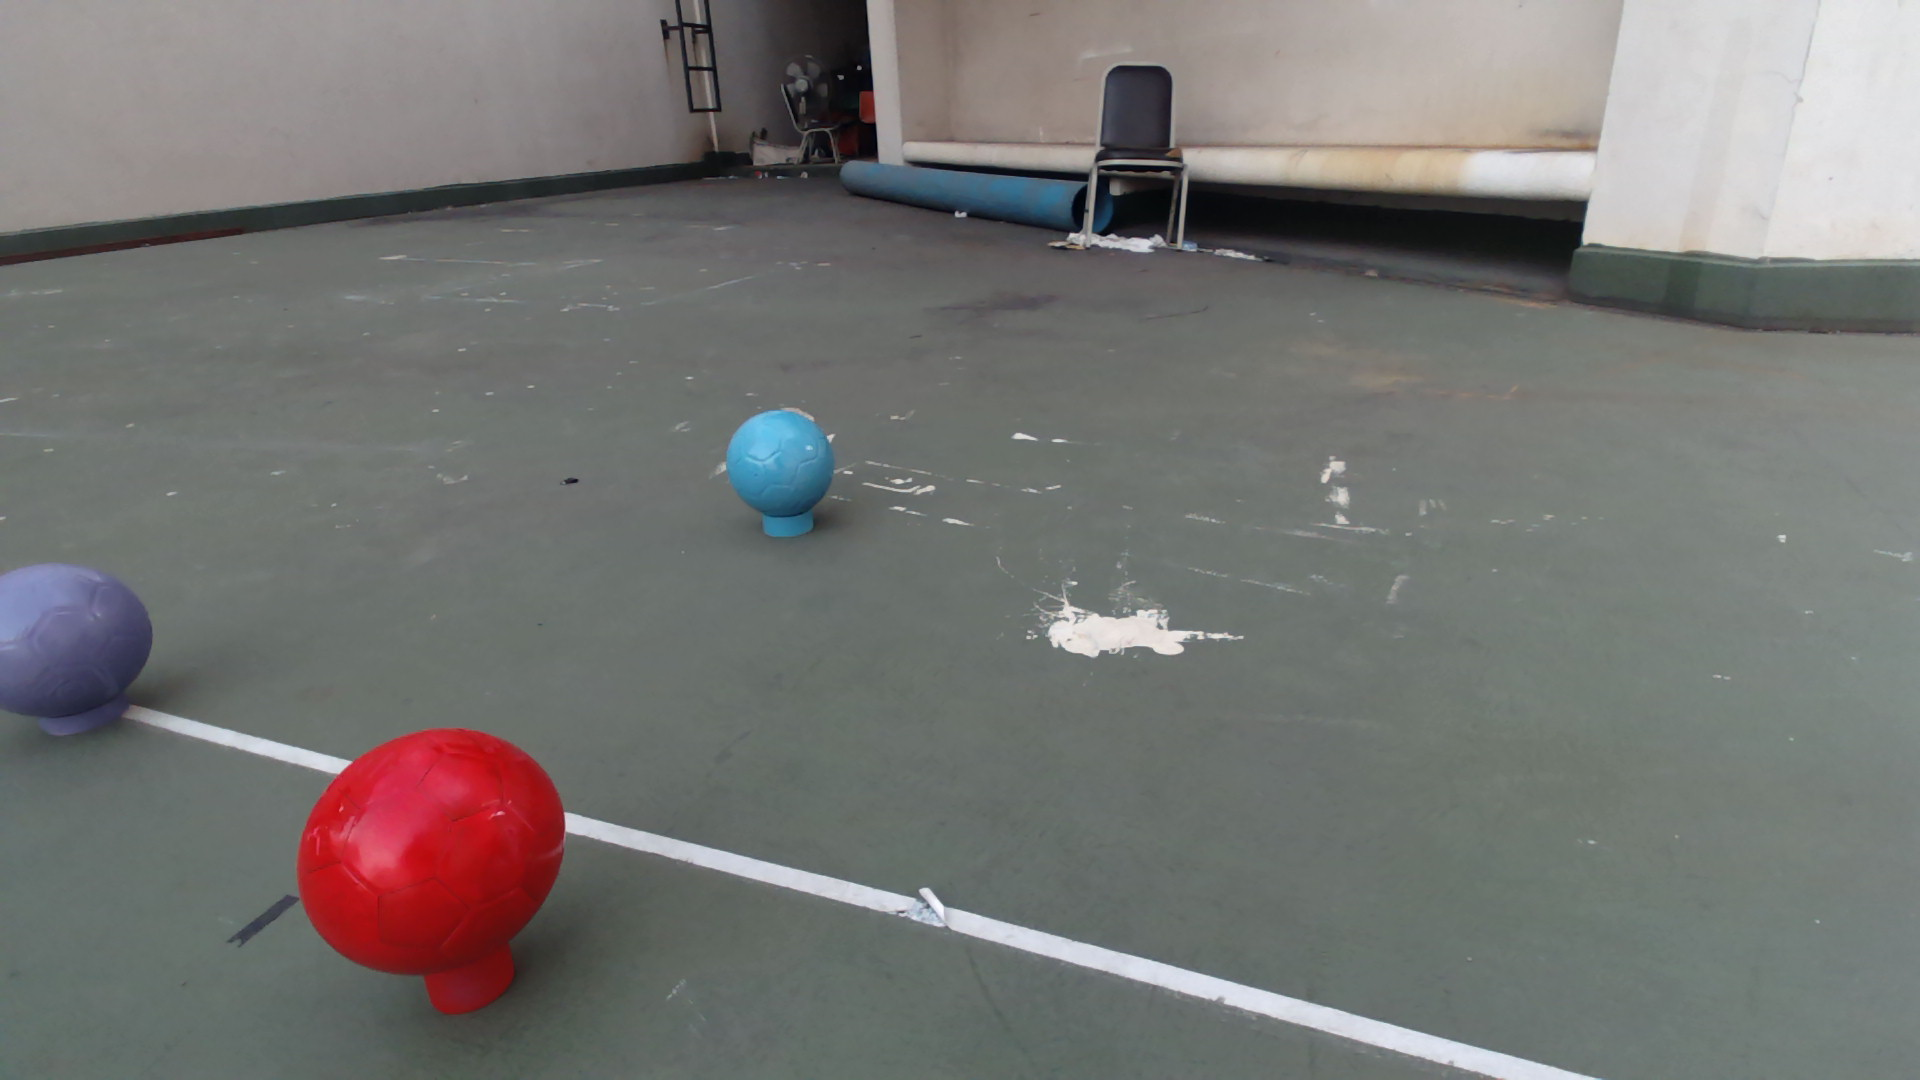Blue ball: (725, 407, 836, 518)
Purple ball: (1, 559, 154, 723)
Red ball: (294, 725, 568, 978)
